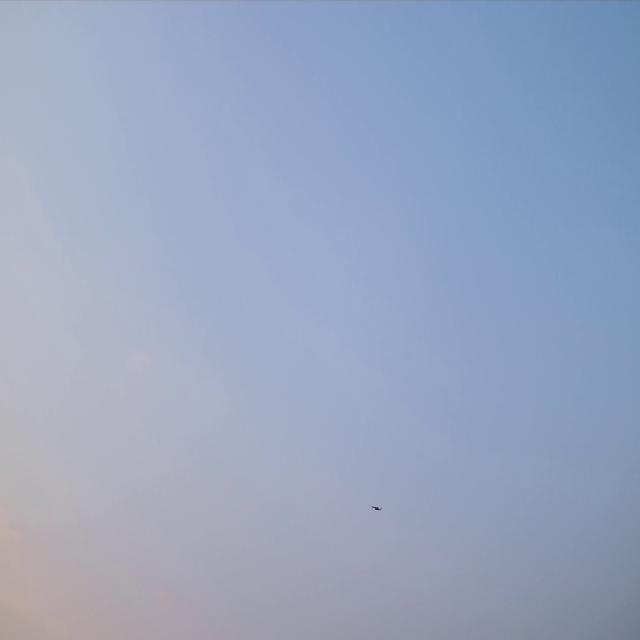UAV: (370, 505, 383, 511)
